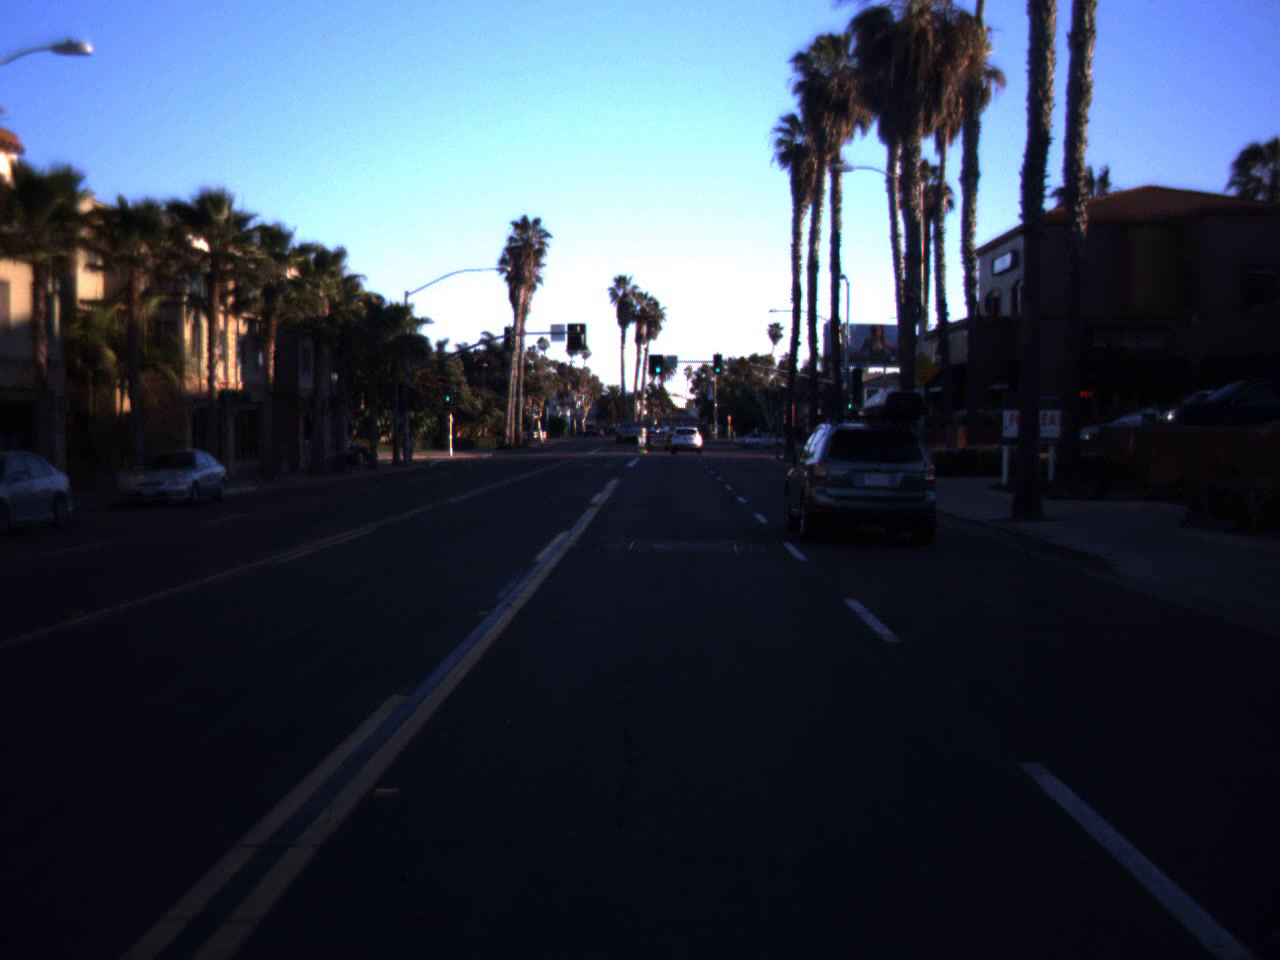go: (652, 354, 664, 374), (712, 354, 724, 374)
